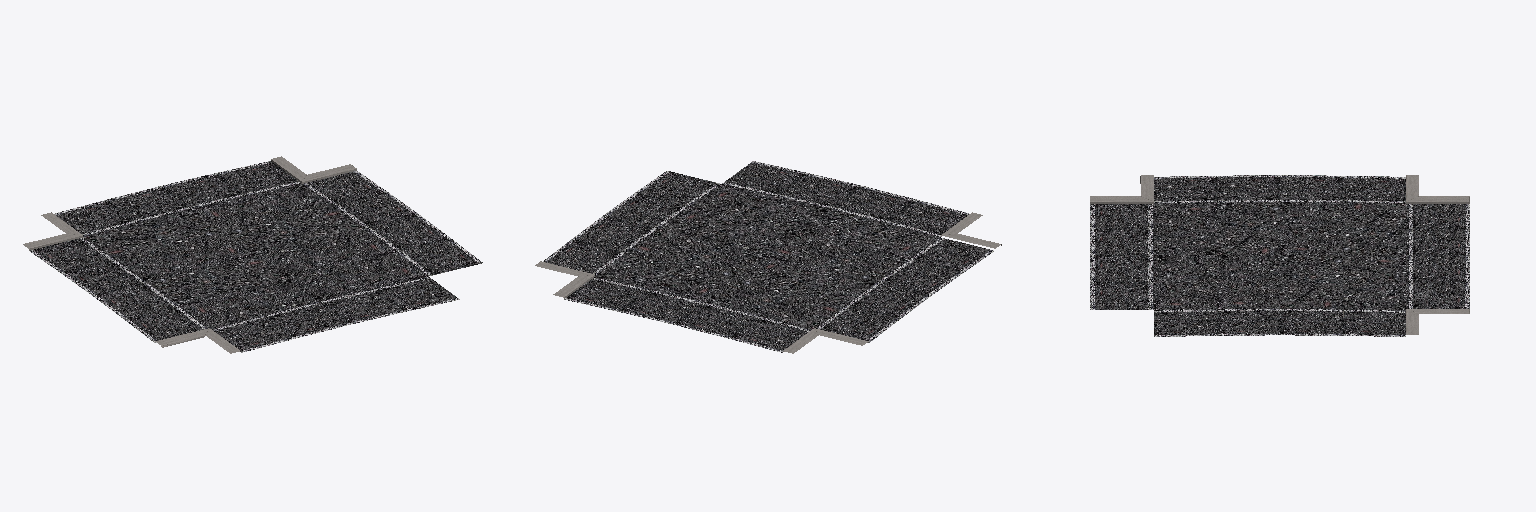
3 renders of one model, left to right at view 1: azimuth 30°, elevation 25°; view 2: azimuth 150°, elevation 25°; view 3: azimuth 270°, elevation 25°, orthographic.
Bounding box in the file's own units: 60 × 0.3269 × 60.
Materials: 1 (1 with a texture image).